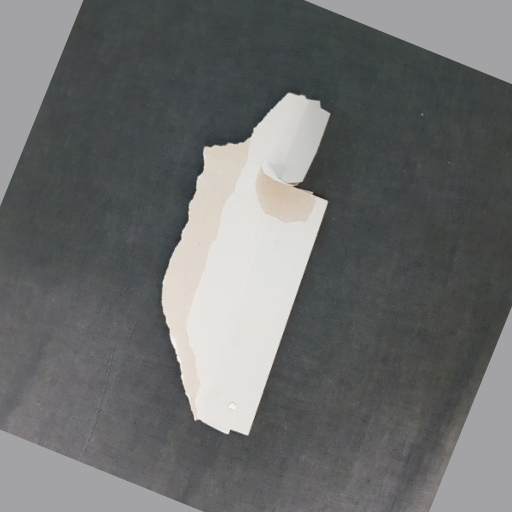Paper_3: (157, 88, 340, 463)
